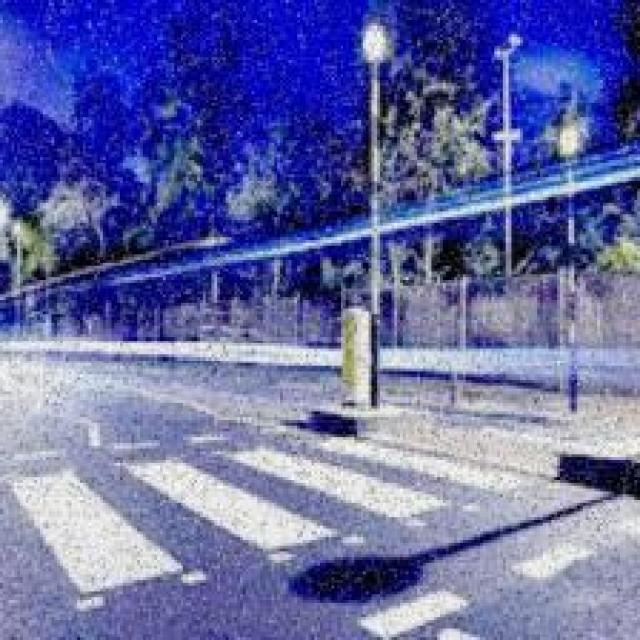walk-crossing: (26, 429, 520, 574)
